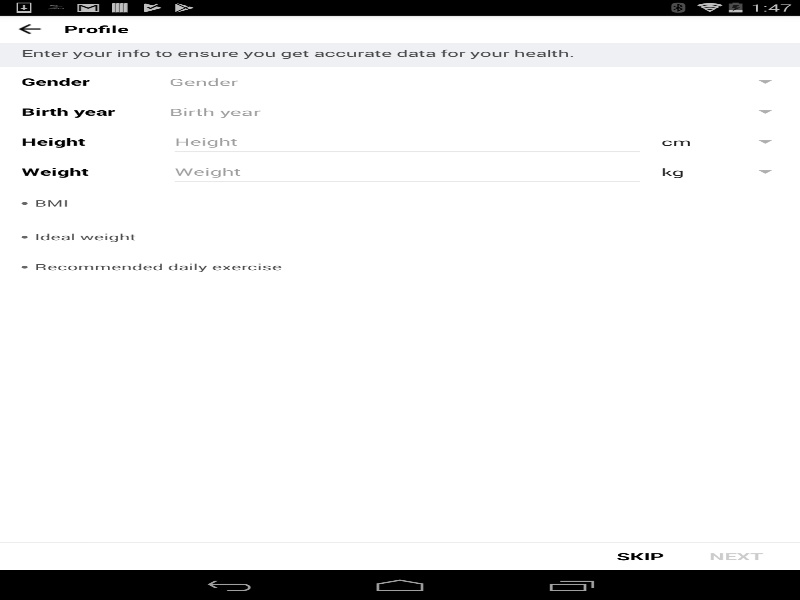Button: (597, 545, 682, 567), (693, 545, 778, 567), (0, 15, 58, 43)
Input: (169, 127, 645, 157), (169, 157, 645, 187)
